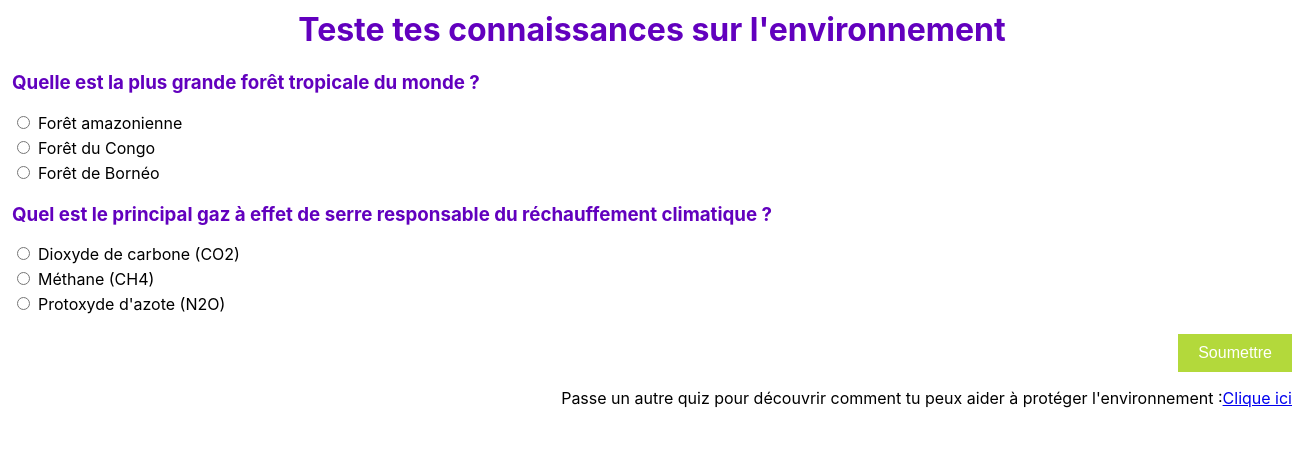
Scenario: handles form submission
Step 1. Click the radio button labelled "Forêt amazonienne" → (24, 122), box [17,116,30,129]
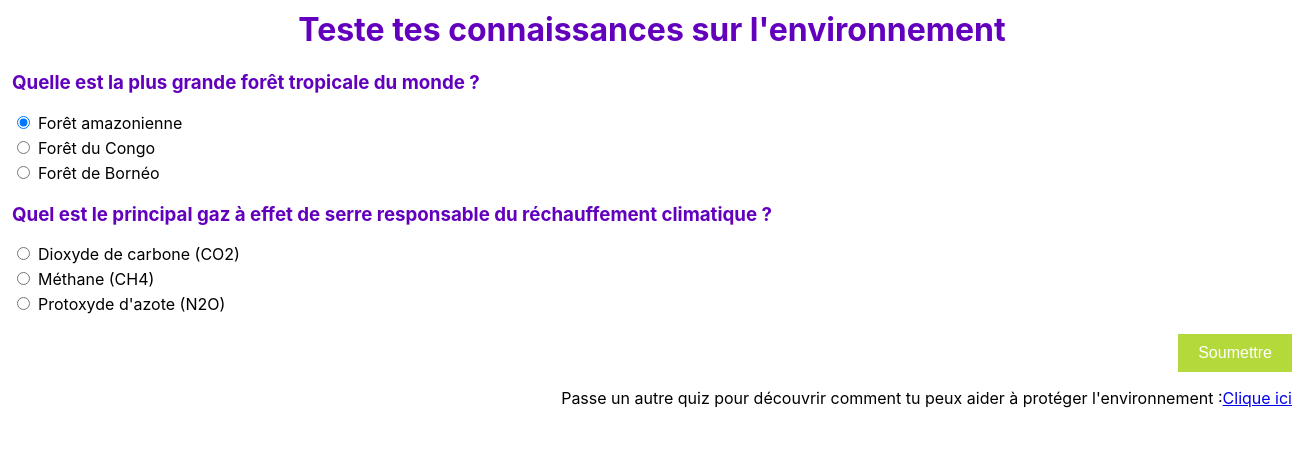
Step 2. Click the radio button labelled "Dioxyde de carbone (CO2)" → (24, 254), box [17,247,30,260]
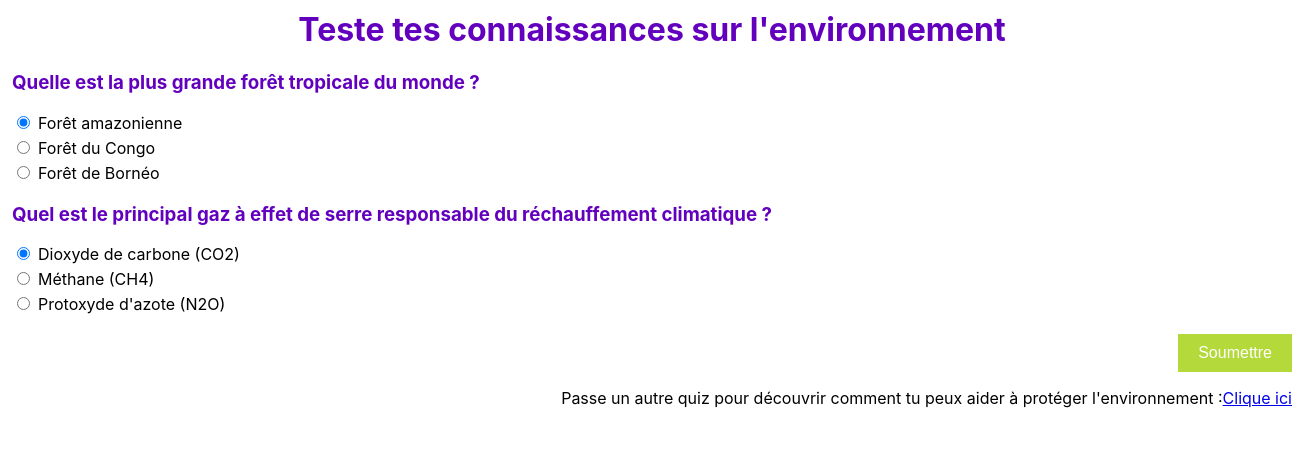
Step 3. Click the button "Soumettre" → (1235, 353), box [1178,334,1292,372]
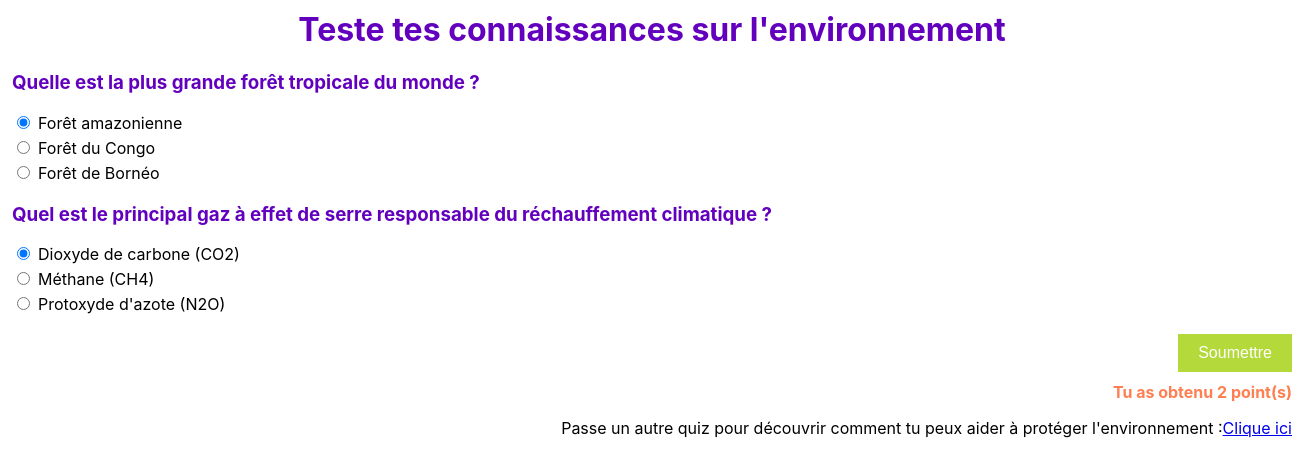
Result: the text "Tu as obtenu 2 point(s)" is shown at [1113,382,1292,402]
